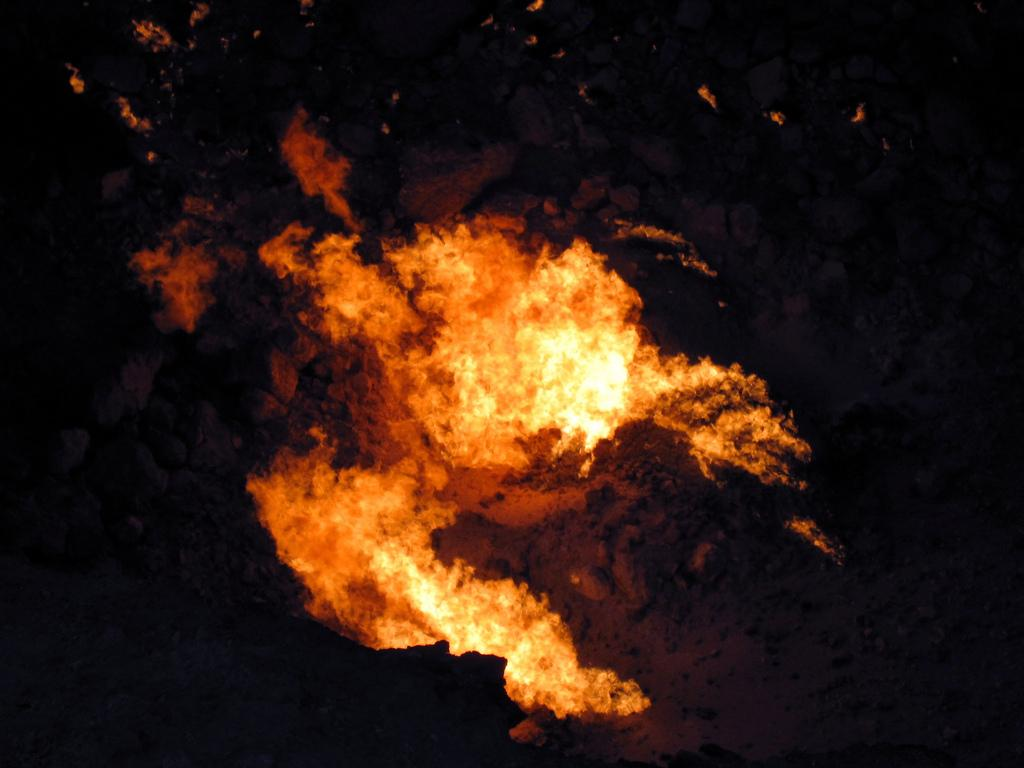fire: (424, 250, 624, 434), (296, 468, 420, 636), (442, 582, 546, 648)
